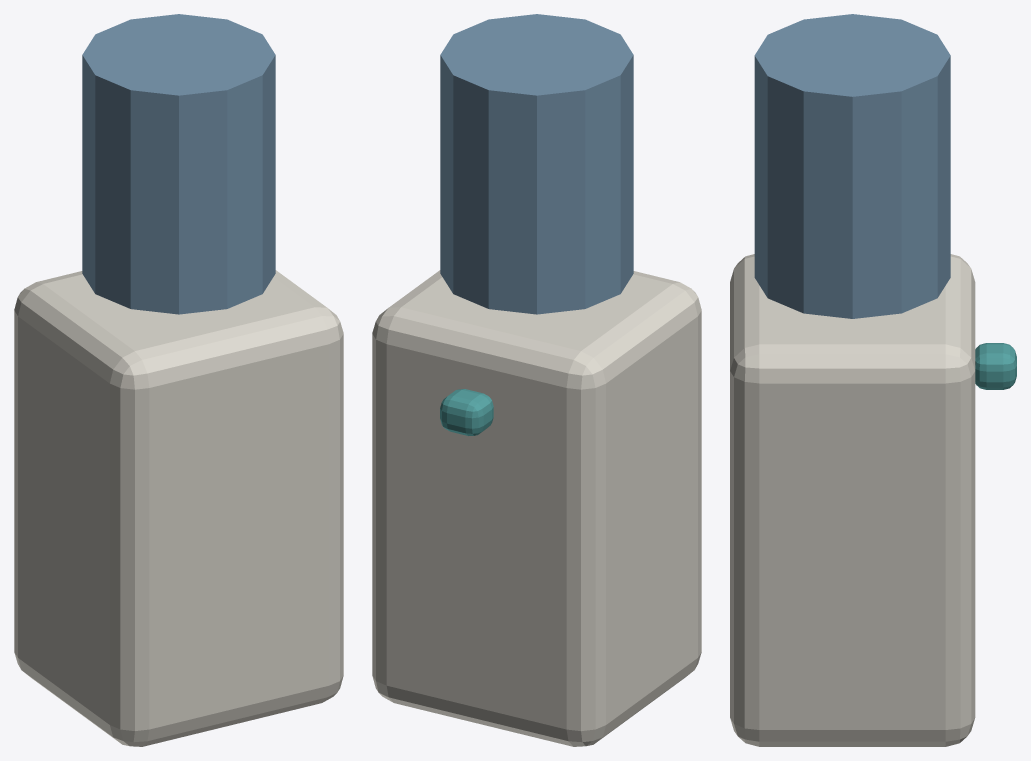
The model's file is water.glb.
The picture shows the model from 3 angles, left to right: view 1: azimuth 30°, elevation 25°; view 2: azimuth 150°, elevation 25°; view 3: azimuth 270°, elevation 25°; orthographic projection.
Visible parts, largest first — view 1: water; view 2: water; view 3: water.
Boxes of the visible parts, x1,y1,x2,y2 form: water: (14, 14, 343, 746); water: (372, 14, 701, 746); water: (730, 14, 1016, 746).
Bounding box in the file's own units: 0.55 × 1.45 × 0.585.
